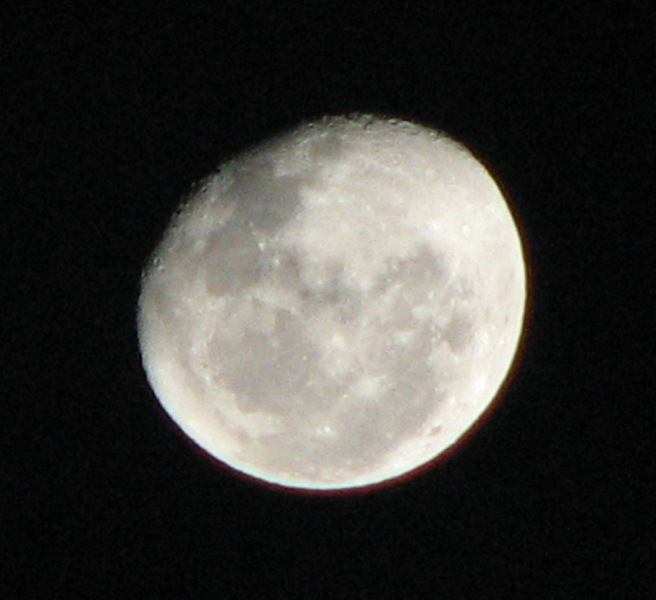crater: (316, 319, 362, 366), (421, 420, 449, 442), (380, 116, 415, 132), (264, 250, 286, 271), (151, 254, 170, 276), (251, 235, 267, 251)
